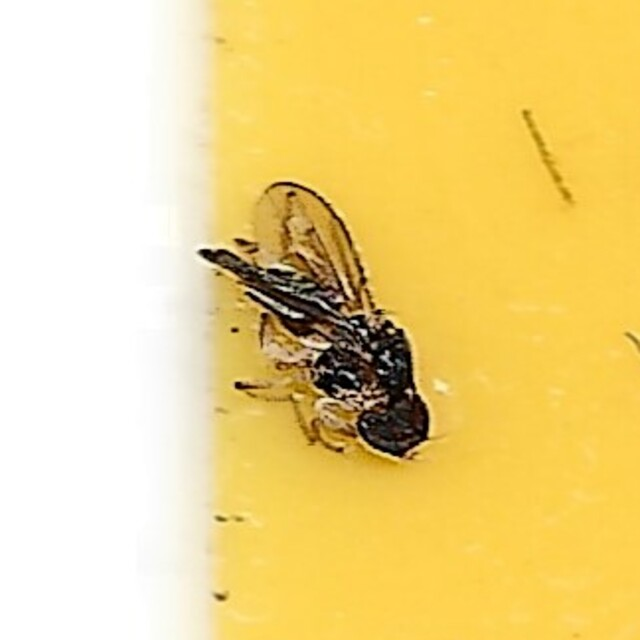Brachycera: (198, 177, 442, 463)
